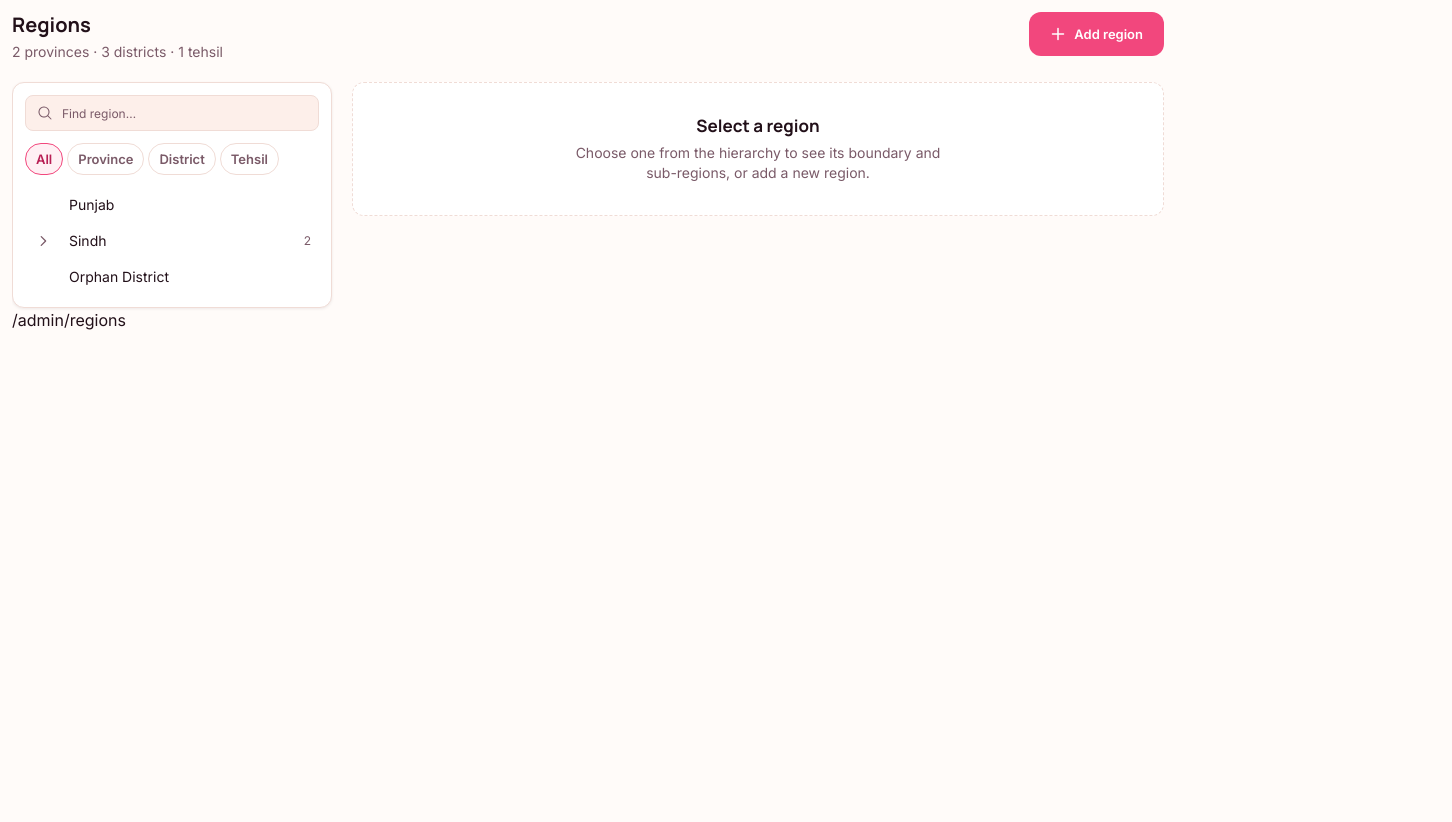
RegionsPage — browsing › selects a region by link, and follows a sub-region chip to it
Step 1. Click the link "Sindh 2" → x=88, y=240, box [61,223,319,259]
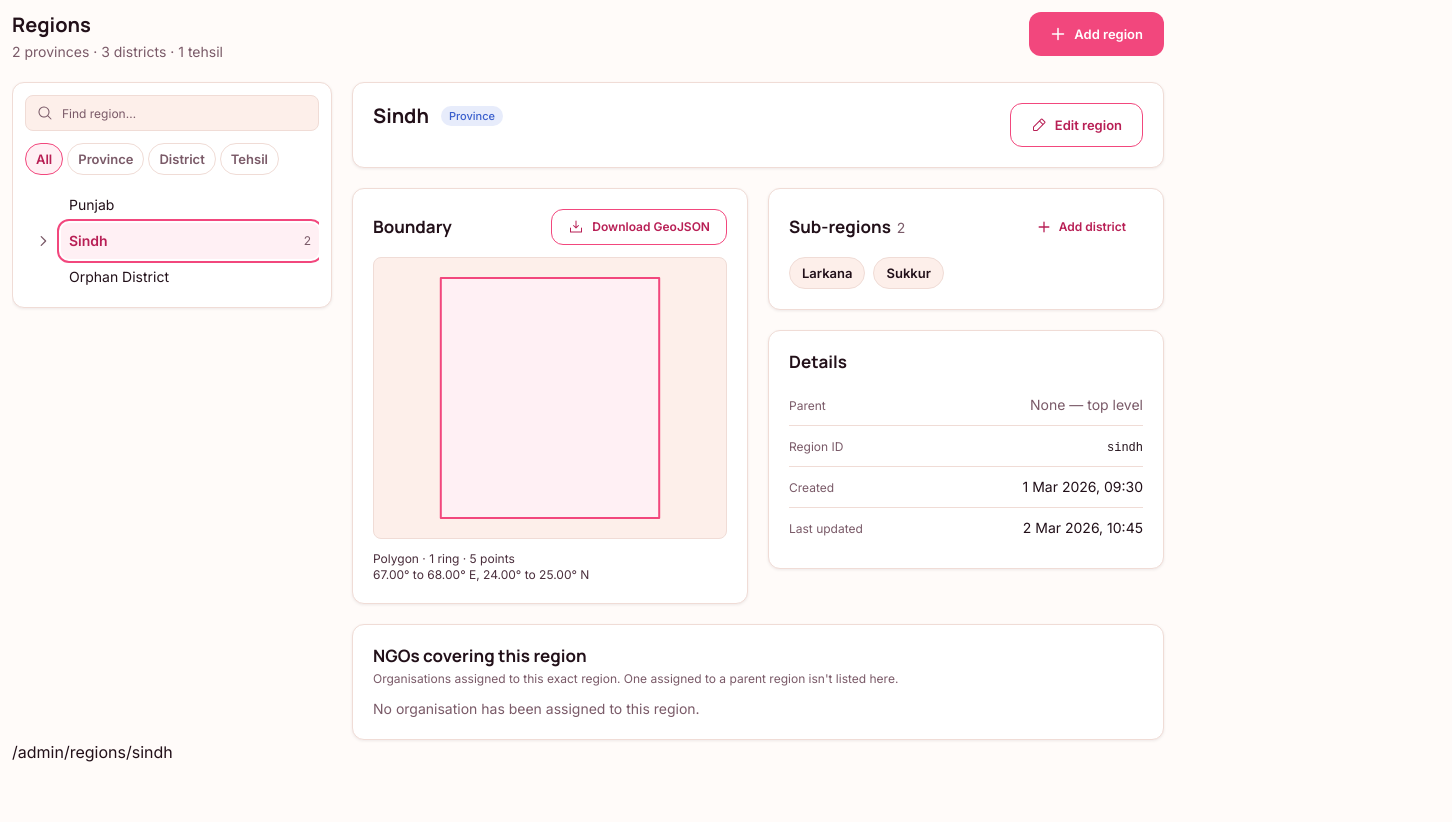
Expected: the text with test id "location" reads "/admin/regions/sindh", [12,742,173,762]
Expected: the heading "Sindh" is shown, [373,103,429,129]
Step 2. Click the link "Sukkur" → x=909, y=273, box [874,257,944,289]
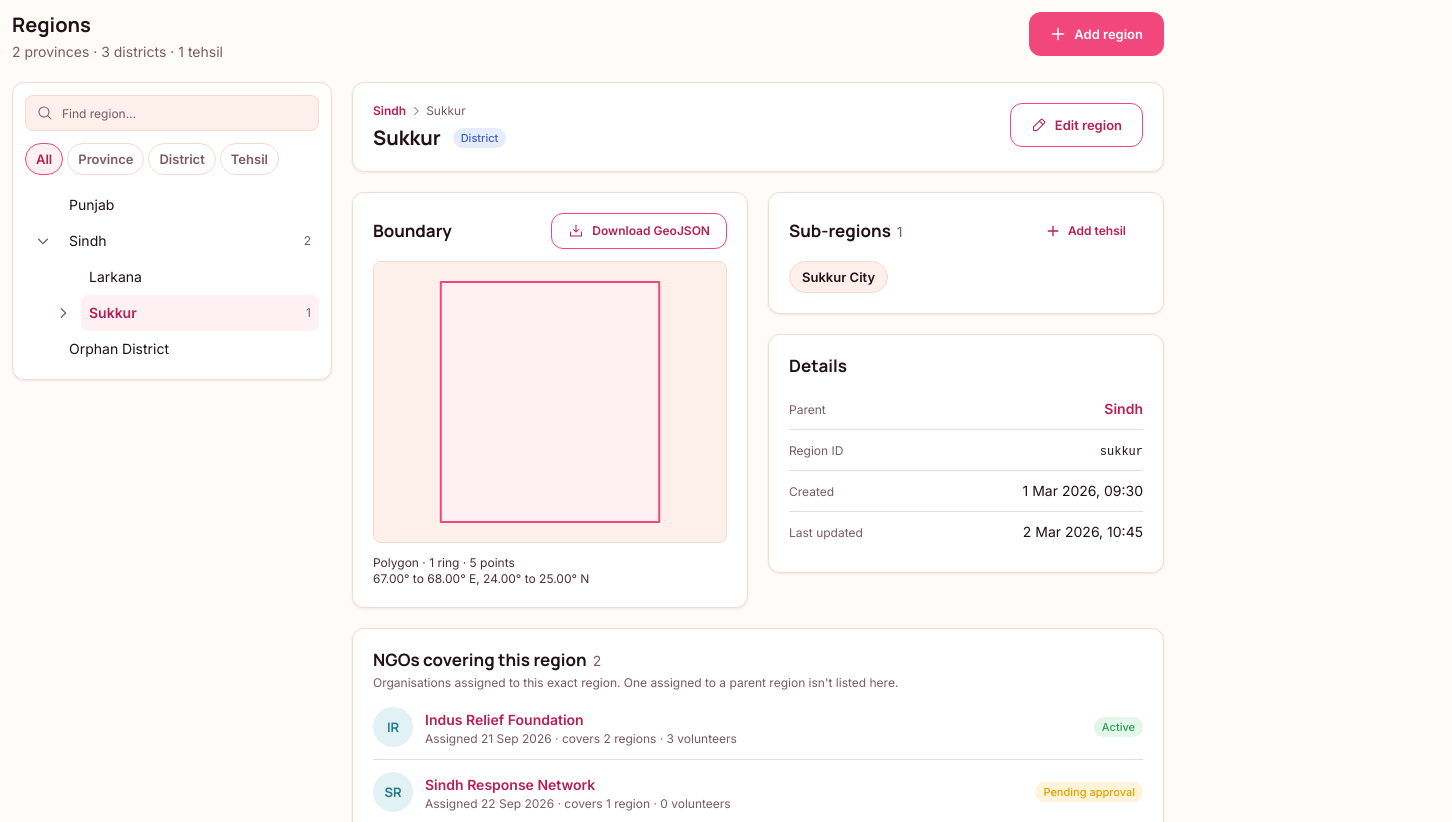
Expected: the heading "Sukkur" is shown, [373,125,441,151]
Expected: the button named "Collapse Sindh" is shown, [25,223,61,259]
